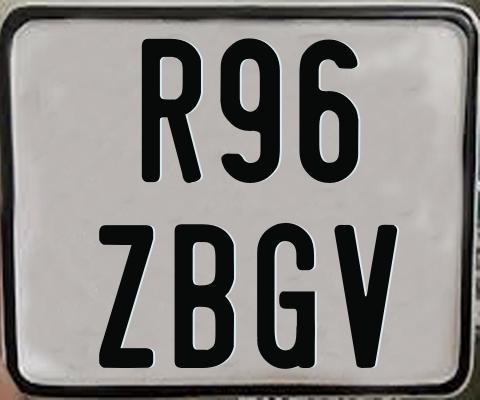6: (299, 37, 359, 185)
9: (218, 37, 278, 188)
B: (173, 223, 234, 371)
G: (256, 220, 315, 368)
R: (140, 38, 201, 185)
V: (332, 222, 400, 370)
Z: (99, 223, 156, 372)
